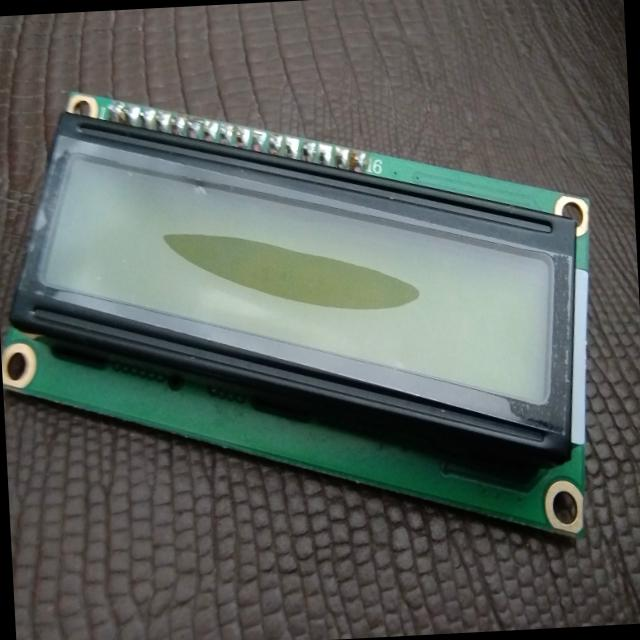lcd: (0, 35, 616, 584)
